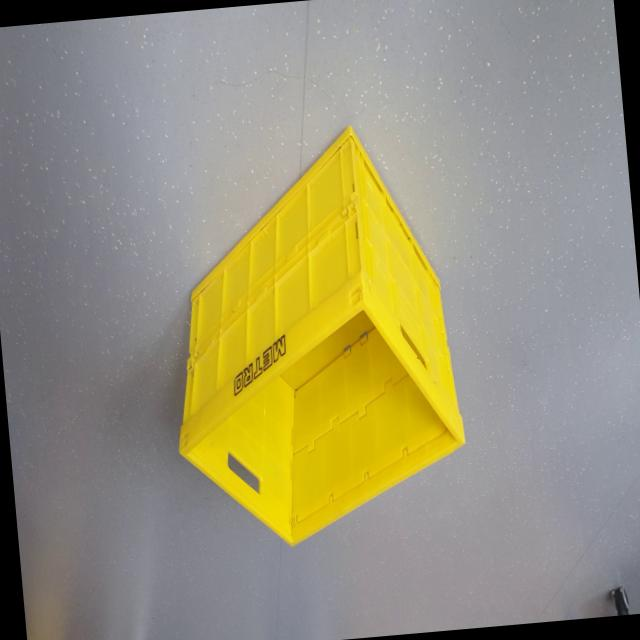box: (150, 110, 490, 575)
